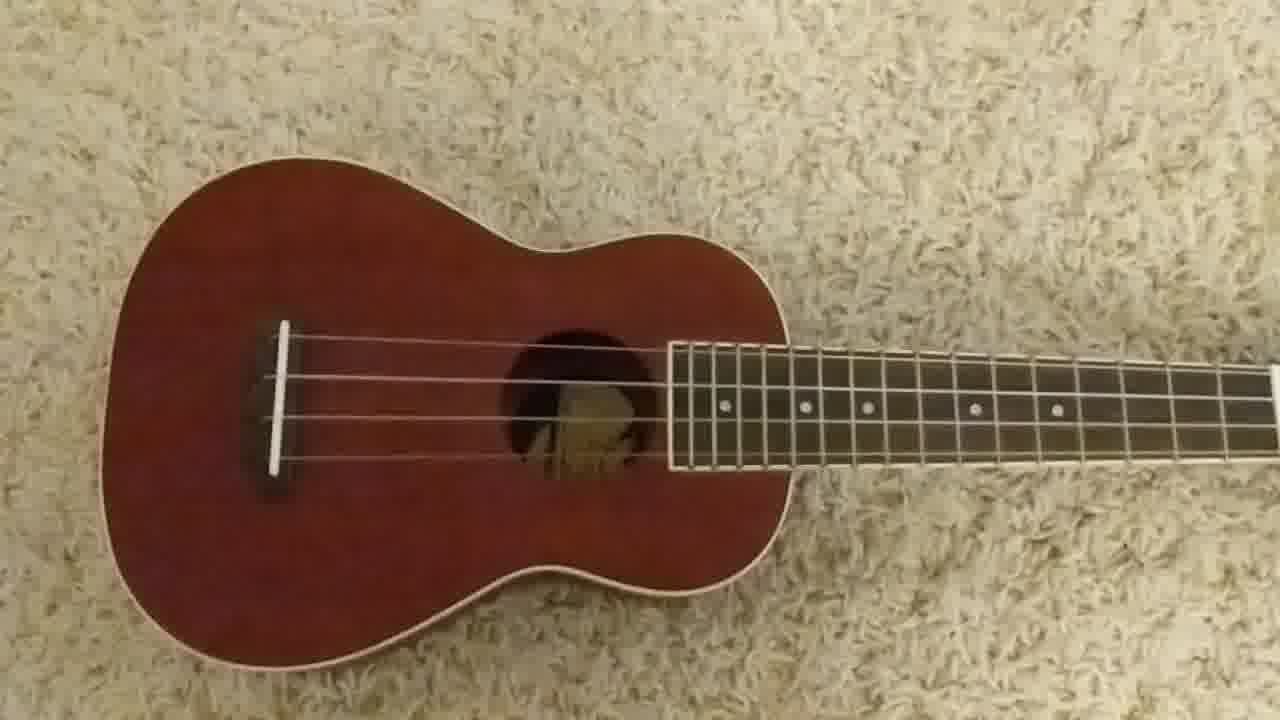Body: (92, 147, 806, 688)
Bridge: (244, 314, 309, 491)
